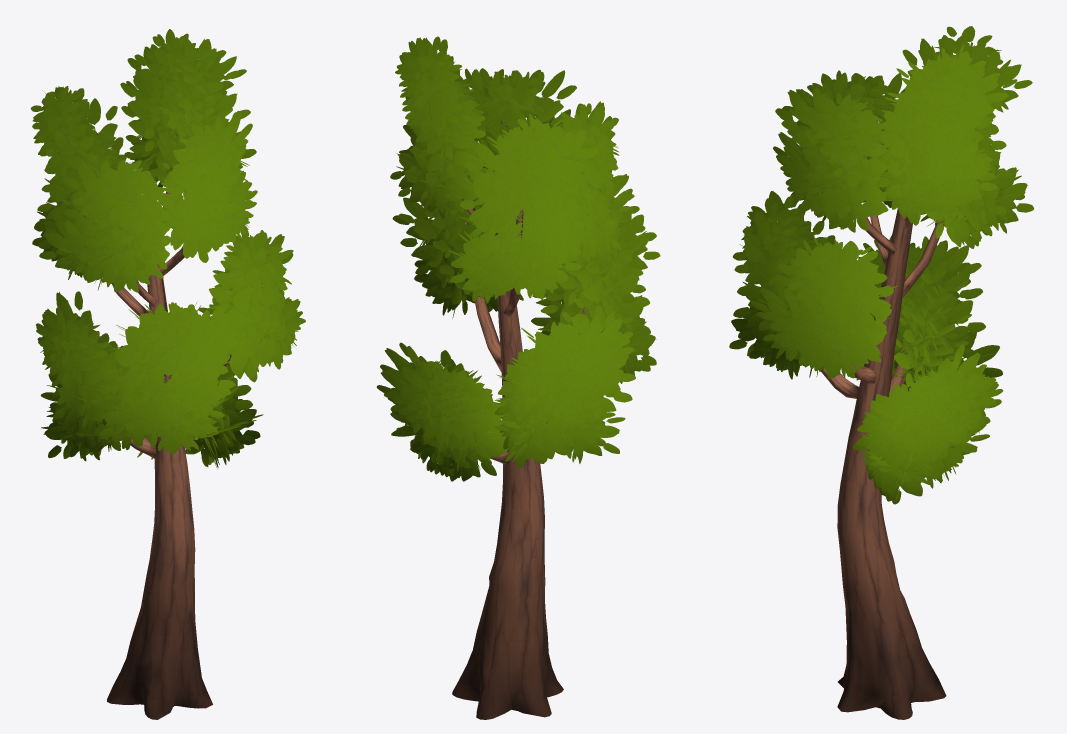
Rendered from commontree_3.glb.
3 renders of one model, left to right at view 1: azimuth 30°, elevation 25°; view 2: azimuth 150°, elevation 25°; view 3: azimuth 270°, elevation 25°, orthographic. The views are drawn at different scales.
Visible parts, largest first — view 1: CommonTree_3; view 2: CommonTree_3; view 3: CommonTree_3.
Boxes of the visible parts, x1=… form: CommonTree_3: x1=30, y1=29, x2=305, y2=719; CommonTree_3: x1=376, y1=36, x2=660, y2=719; CommonTree_3: x1=729, y1=26, x2=1033, y2=719.
Bounding box in the file's own units: 4.06 × 9.43 × 4.24.
2 materials, 2 textured.
